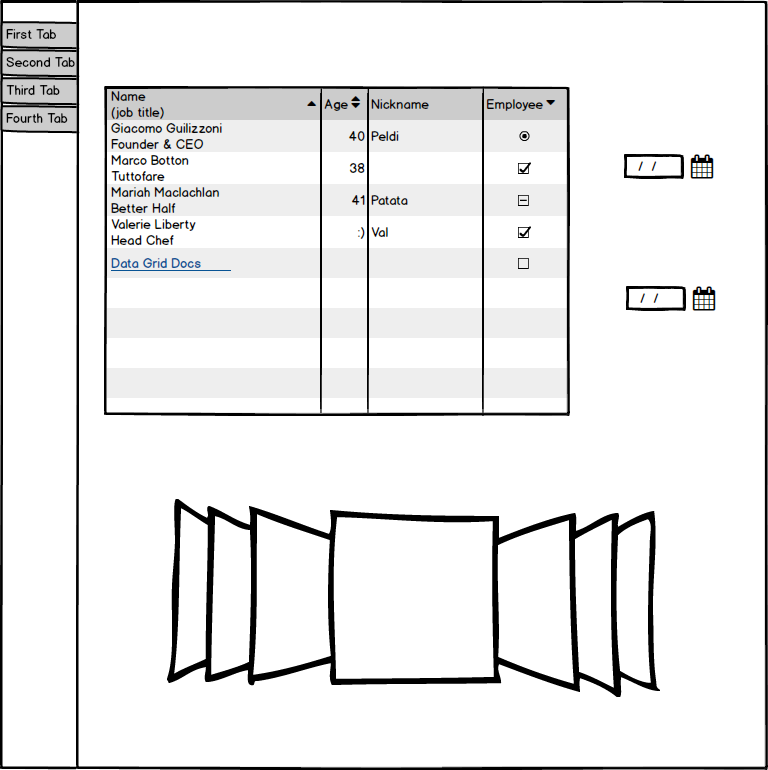date_picker: (617, 146, 722, 188), (620, 279, 722, 320)
sidebar: (1, 20, 84, 136)
slideshow: (160, 489, 670, 702)
table: (98, 81, 578, 423)
